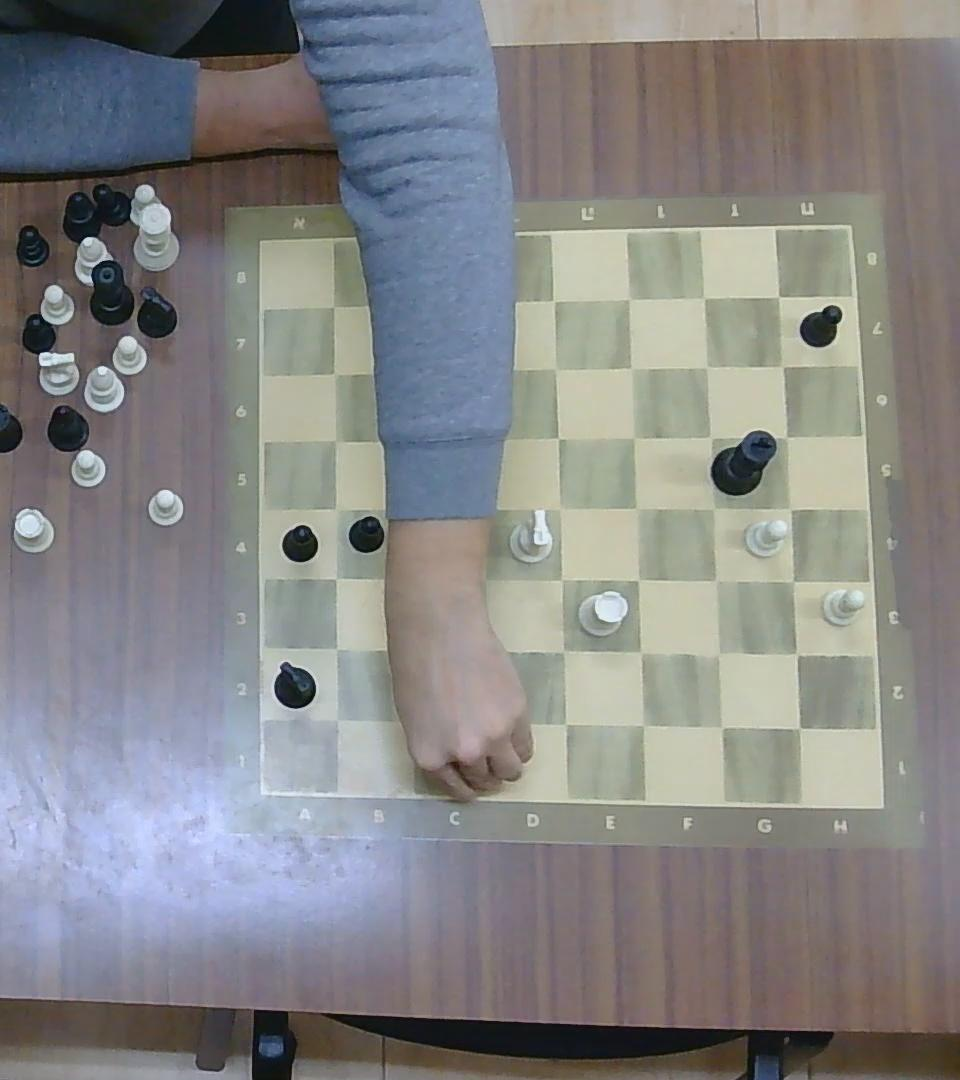xcorner: (626, 707, 658, 740), (705, 708, 736, 742), (702, 638, 734, 670), (625, 635, 656, 667), (548, 706, 579, 738), (622, 563, 653, 594), (781, 637, 812, 668), (548, 635, 578, 667), (474, 634, 504, 665), (391, 707, 423, 736), (783, 712, 813, 742), (700, 565, 730, 595), (395, 636, 425, 666), (548, 563, 577, 594), (615, 283, 644, 313), (470, 288, 499, 318), (777, 567, 806, 596), (321, 704, 350, 733), (320, 562, 349, 591), (321, 633, 350, 662), (699, 493, 728, 522), (622, 493, 651, 522), (476, 707, 505, 736), (393, 564, 422, 593), (617, 351, 645, 381), (470, 566, 500, 594), (392, 353, 420, 383), (691, 282, 719, 311), (619, 422, 647, 451), (776, 493, 804, 522), (769, 351, 797, 380), (476, 498, 504, 527), (698, 422, 725, 451), (546, 495, 573, 523), (693, 352, 721, 379), (320, 496, 348, 523), (542, 286, 569, 314), (543, 352, 570, 380), (546, 423, 572, 450), (774, 422, 800, 448), (396, 290, 420, 318), (392, 426, 416, 454), (477, 428, 502, 454), (473, 356, 498, 382), (323, 360, 347, 385), (767, 284, 791, 309), (396, 497, 420, 522), (322, 292, 345, 318), (323, 428, 346, 452)
